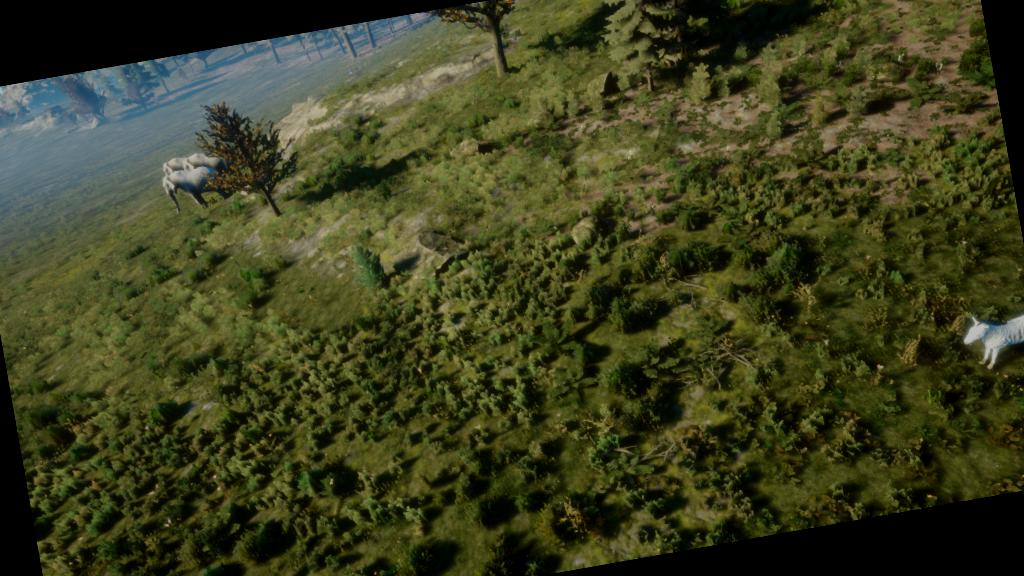elephant: (150, 157, 244, 227)
zebra: (946, 294, 1023, 388)
